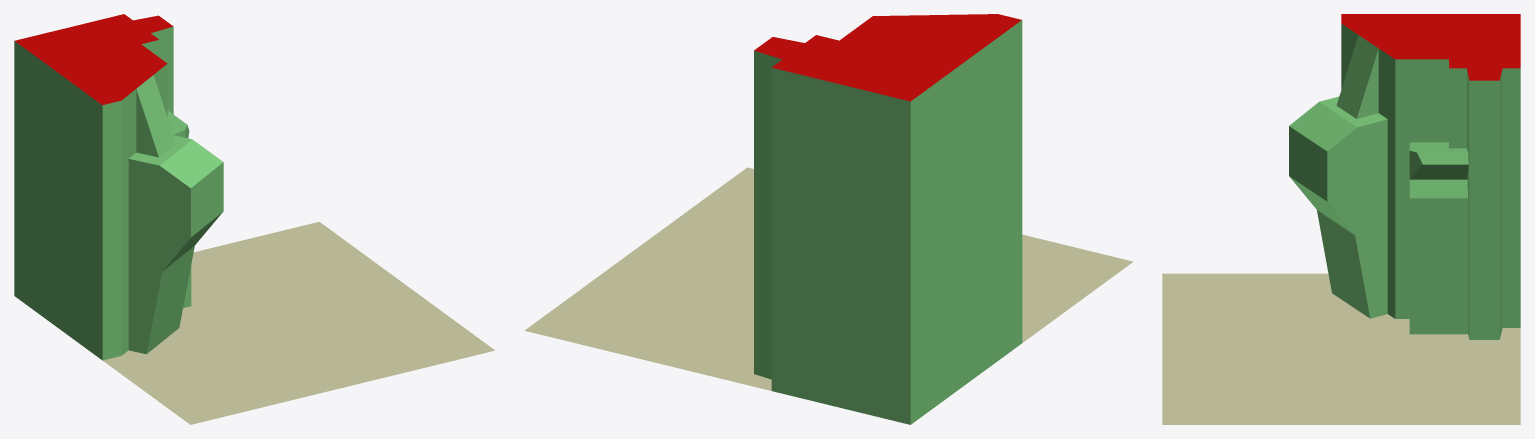
Rendered from x_oo_ground_24_wall_corner1_rmstrd_mirror.fbx.
The picture shows the model from 3 angles, left to right: view 1: azimuth 30°, elevation 25°; view 2: azimuth 150°, elevation 25°; view 3: azimuth 270°, elevation 25°; orthographic projection. The views are drawn at different scales.
Parts seen in each view (by area): view 1: x_oo_ground_24_wall_corner1_rmstrd_mirror1; view 2: x_oo_ground_24_wall_corner1_rmstrd_mirror1; view 3: x_oo_ground_24_wall_corner1_rmstrd_mirror1.
Boxes of the visible parts, box(x1,y1,x2,y2) form: x_oo_ground_24_wall_corner1_rmstrd_mirror1: box(14, 14, 494, 424); x_oo_ground_24_wall_corner1_rmstrd_mirror1: box(524, 14, 1133, 424); x_oo_ground_24_wall_corner1_rmstrd_mirror1: box(1162, 14, 1520, 424).
Size of the model in its own units: 5 by 4 by 5.
